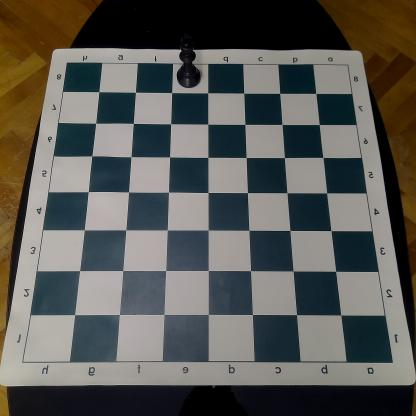black-king: (174, 32, 202, 89)
